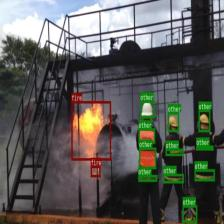fire: (71, 101, 111, 160), (90, 166, 100, 176)
